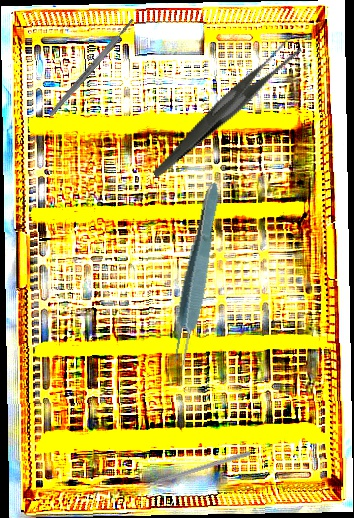Chopper: (139, 444, 252, 489)
Dressing Forceps: (125, 34, 325, 178)
Scalpel Handle: (47, 17, 136, 118)
Tissue Forceps: (165, 179, 226, 375)
